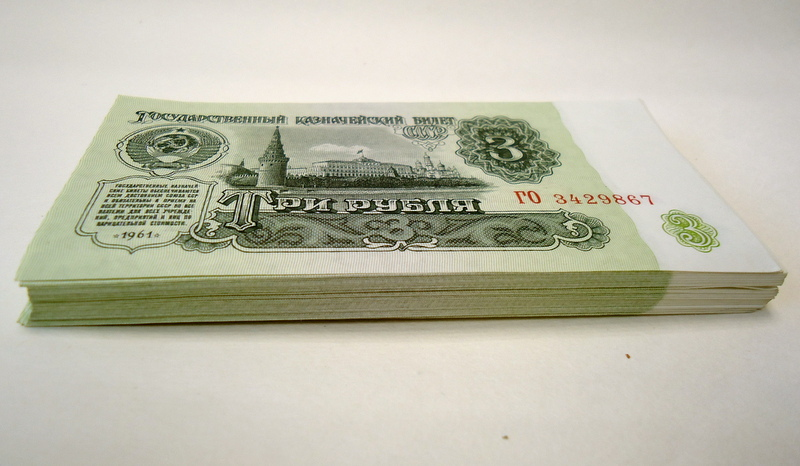cash: (16, 96, 784, 283)
